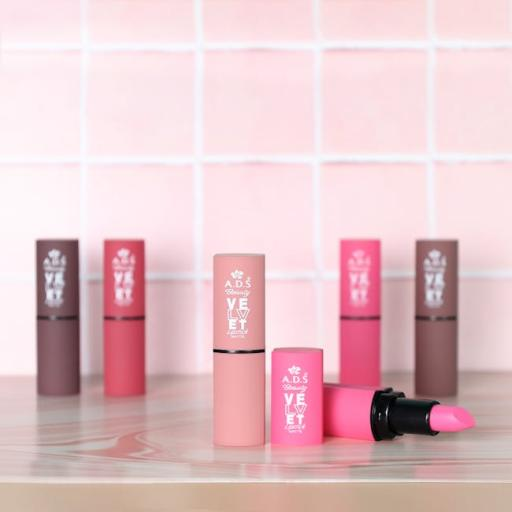lipstick: (214, 254, 265, 445), (324, 384, 474, 440), (37, 240, 79, 395), (416, 240, 457, 395), (104, 240, 144, 396), (340, 240, 380, 385), (271, 348, 323, 445)
